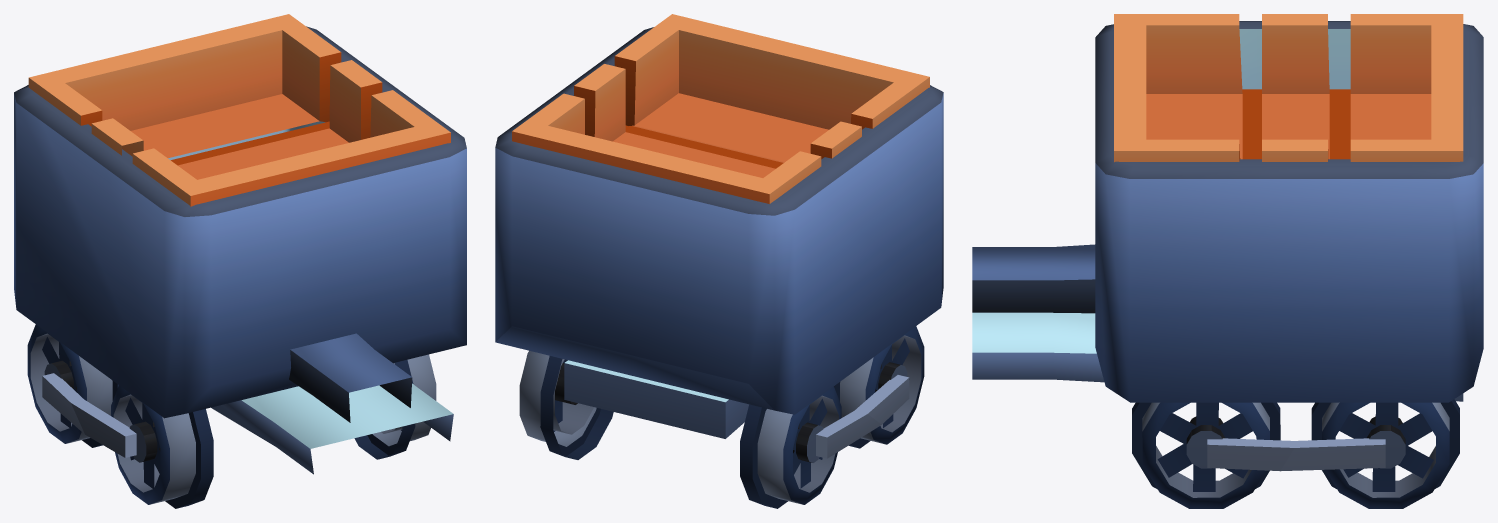
Rendered from train-Vagon.fbx.
3 views of the same model, side by side, from view 1: azimuth 30°, elevation 25°; view 2: azimuth 150°, elevation 25°; view 3: azimuth 270°, elevation 25° (orthographic). The views are drawn at different scales.
Parts seen in each view (by area): view 1: train-vagon.001; view 2: train-vagon.001; view 3: train-vagon.001.
Part boxes in pixels (bbox=[...]): train-vagon.001: bbox=[14, 14, 466, 508]; train-vagon.001: bbox=[495, 14, 943, 508]; train-vagon.001: bbox=[972, 14, 1483, 508].
Bounding box in the file's own units: 171 × 180 × 227.
